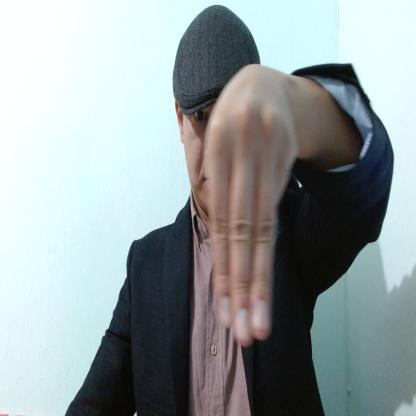M: (205, 64, 298, 346)
